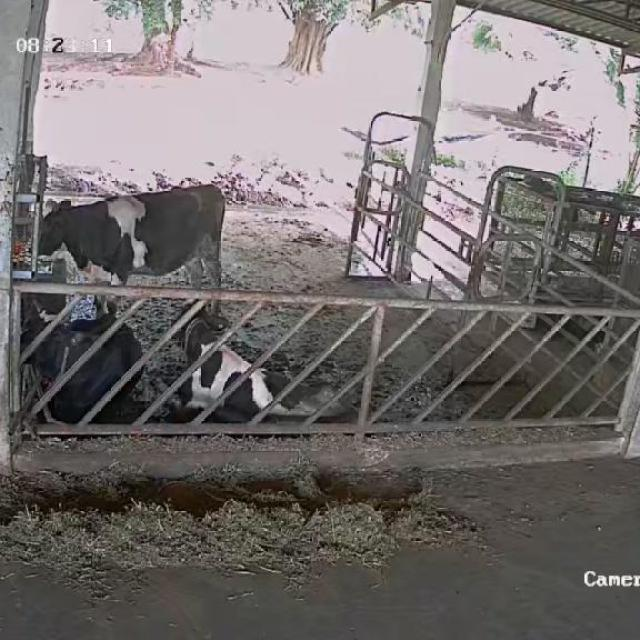lying down: (166, 309, 352, 427), (7, 313, 152, 437)
standing: (29, 180, 225, 320)
